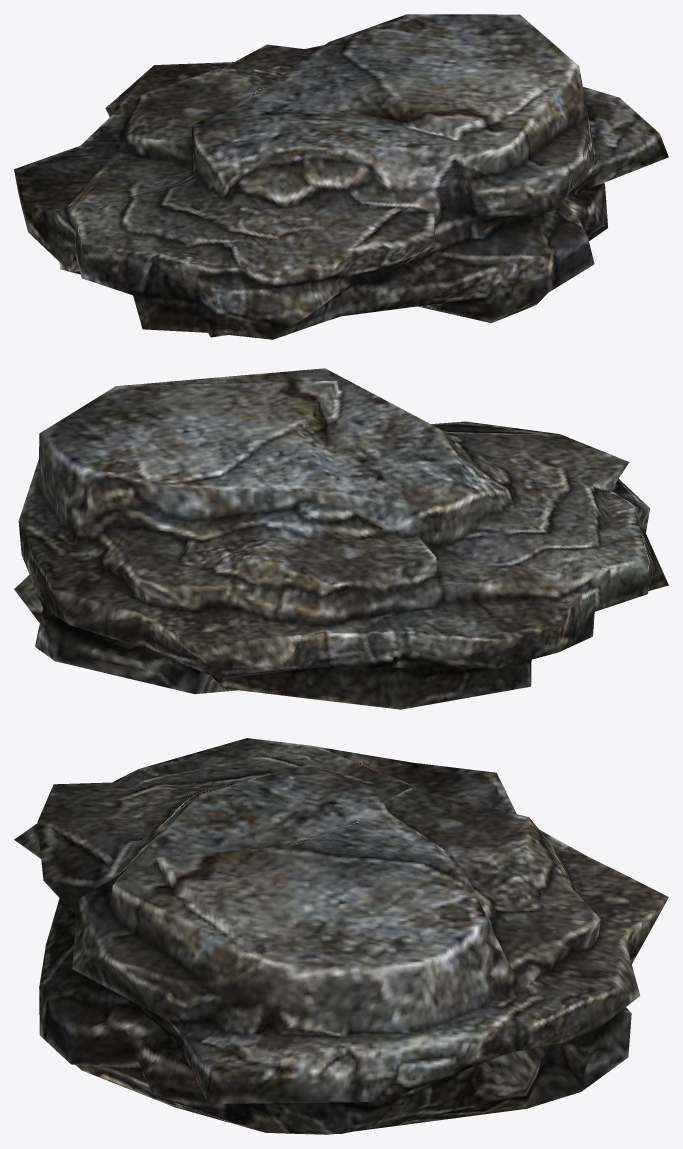
The model's file is Rock5.fbx.
3 renders of one model, top to bottom at view 1: azimuth 30°, elevation 25°; view 2: azimuth 150°, elevation 25°; view 3: azimuth 270°, elevation 25°, orthographic. The views are drawn at different scales.
Visible parts, largest first — view 1: Rock5; view 2: Rock5; view 3: Rock5.
Part boxes in pixels (left/top/right/bottom): Rock5: left=14, top=14, right=668, bottom=339; Rock5: left=14, top=368, right=668, bottom=709; Rock5: left=14, top=738, right=668, bottom=1134.
Size of the model in its own units: 23.83 by 6.91 by 20.44.
